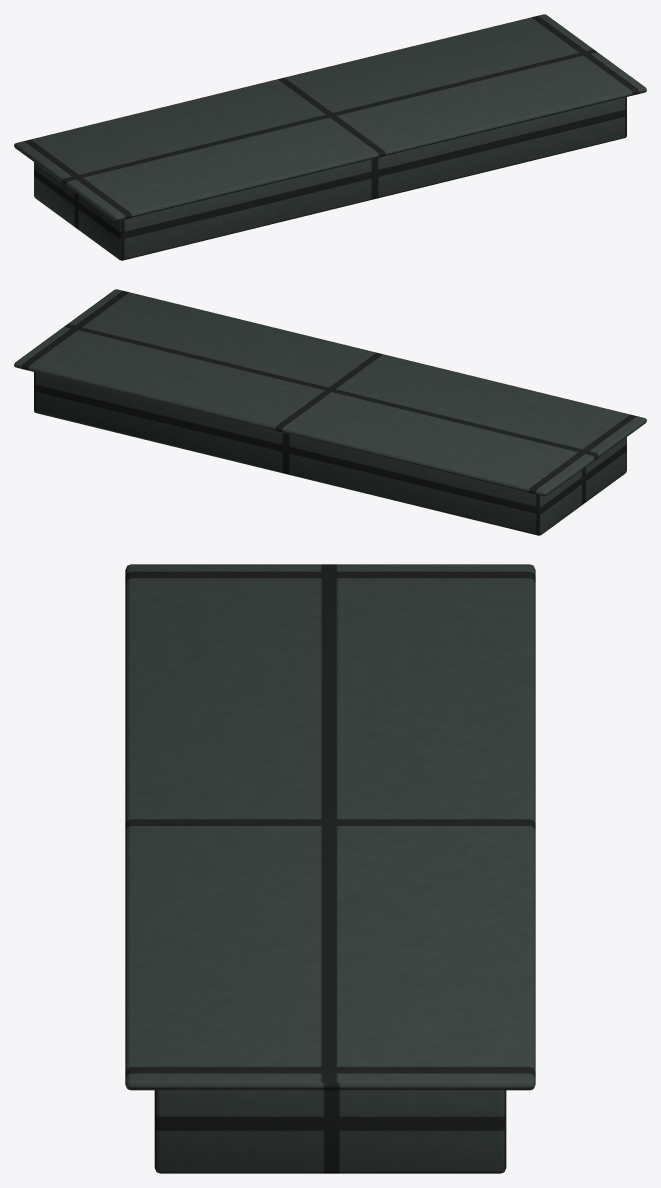
The model's file is WK_LIGHT_TROFFER_A_01.glb.
The picture shows the model from 3 angles, top to bottom: view 1: azimuth 30°, elevation 25°; view 2: azimuth 150°, elevation 25°; view 3: azimuth 270°, elevation 25°; orthographic projection. The views are drawn at different scales.
Parts seen in each view (by area): view 1: WK_LIGHT_TROFFER_A_01; view 2: WK_LIGHT_TROFFER_A_01; view 3: WK_LIGHT_TROFFER_A_01.
Boxes of the visible parts, x1,y1,x2,y2 form: WK_LIGHT_TROFFER_A_01: (14, 14, 646, 260); WK_LIGHT_TROFFER_A_01: (14, 289, 646, 535); WK_LIGHT_TROFFER_A_01: (125, 564, 535, 1173).
Bounding box in the file's own units: 2.1 × 0.2 × 0.7.
Materials: 2 (1 with a texture image).
